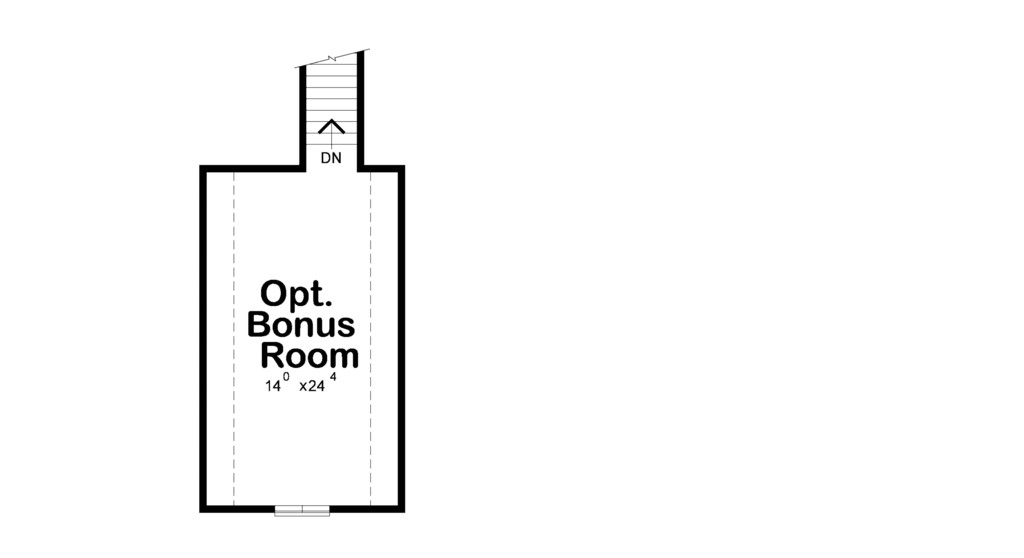stairs: (294, 47, 372, 172)
window: (271, 502, 333, 520)
